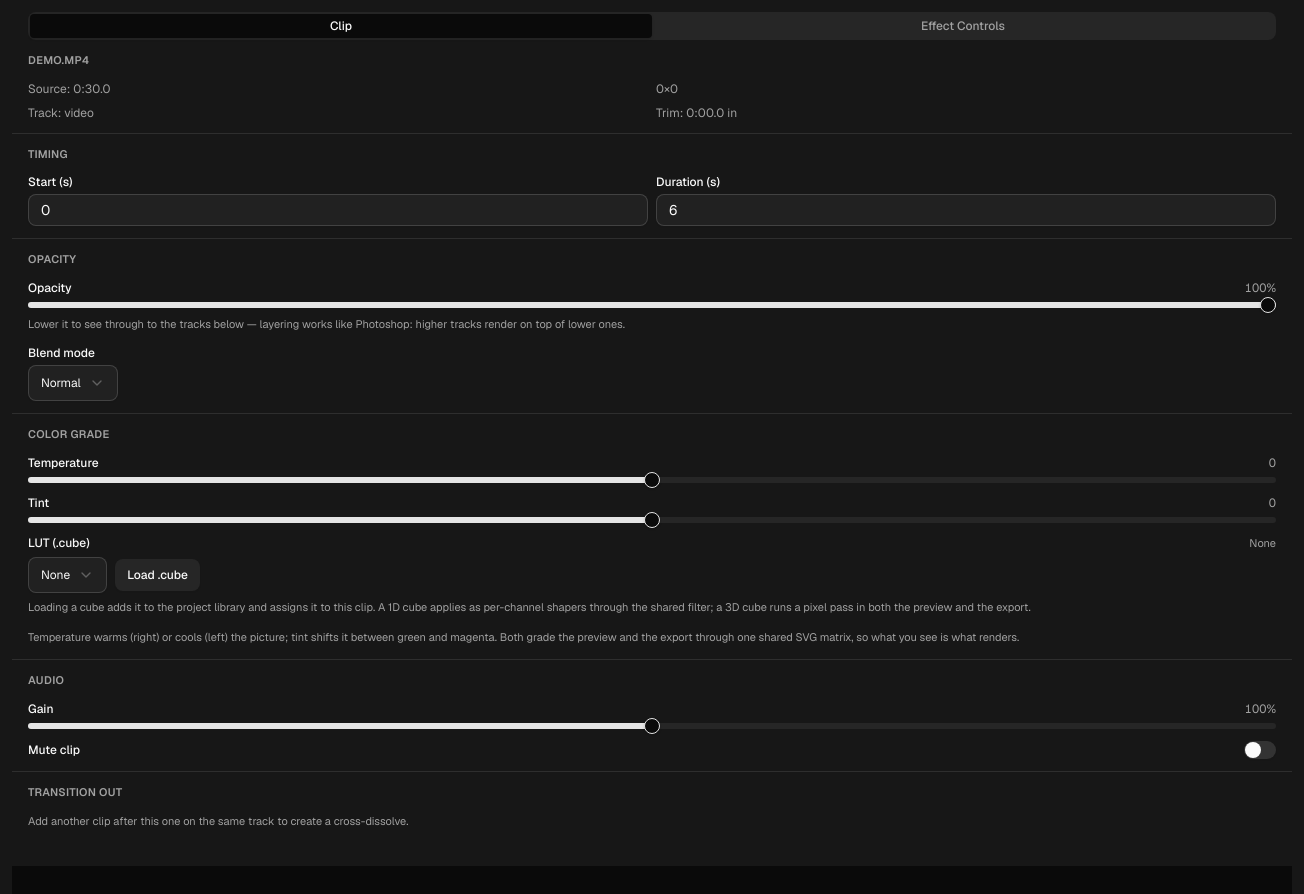
Test: InspectorPanel tabs › the time-remap row seeds a timeScale curve at the playhead
The width and height of the screenshot is (1304, 894).
What coordinates should you click on to do the following:
click the tab with test id "inspector-tab-effects"
I would click on:
 (963, 26)
Its box is x1=652 y1=14 x2=1274 y2=38.
(page scrolled)
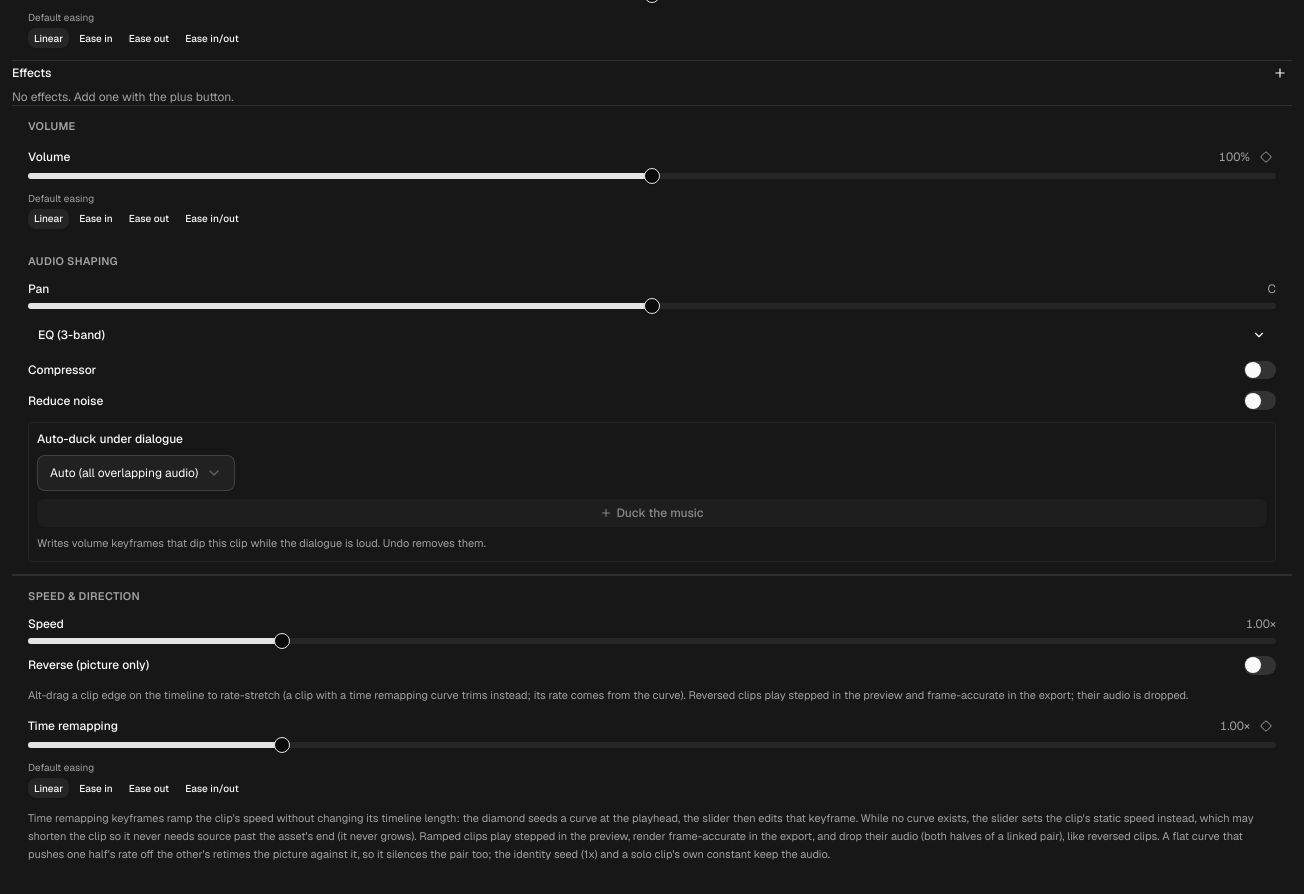
Expected: the element with test id "prop-timeScale" is shown, x1=28 y1=716 x2=1276 y2=798
The diamond pins the clip's current speed as the first ramp keyframe.
What coordinates should you click on to do the following:
click the button with test id "kf-toggle-timeScale"
I would click on:
 (1266, 726)
Its box is x1=1256 y1=716 x2=1276 y2=736.
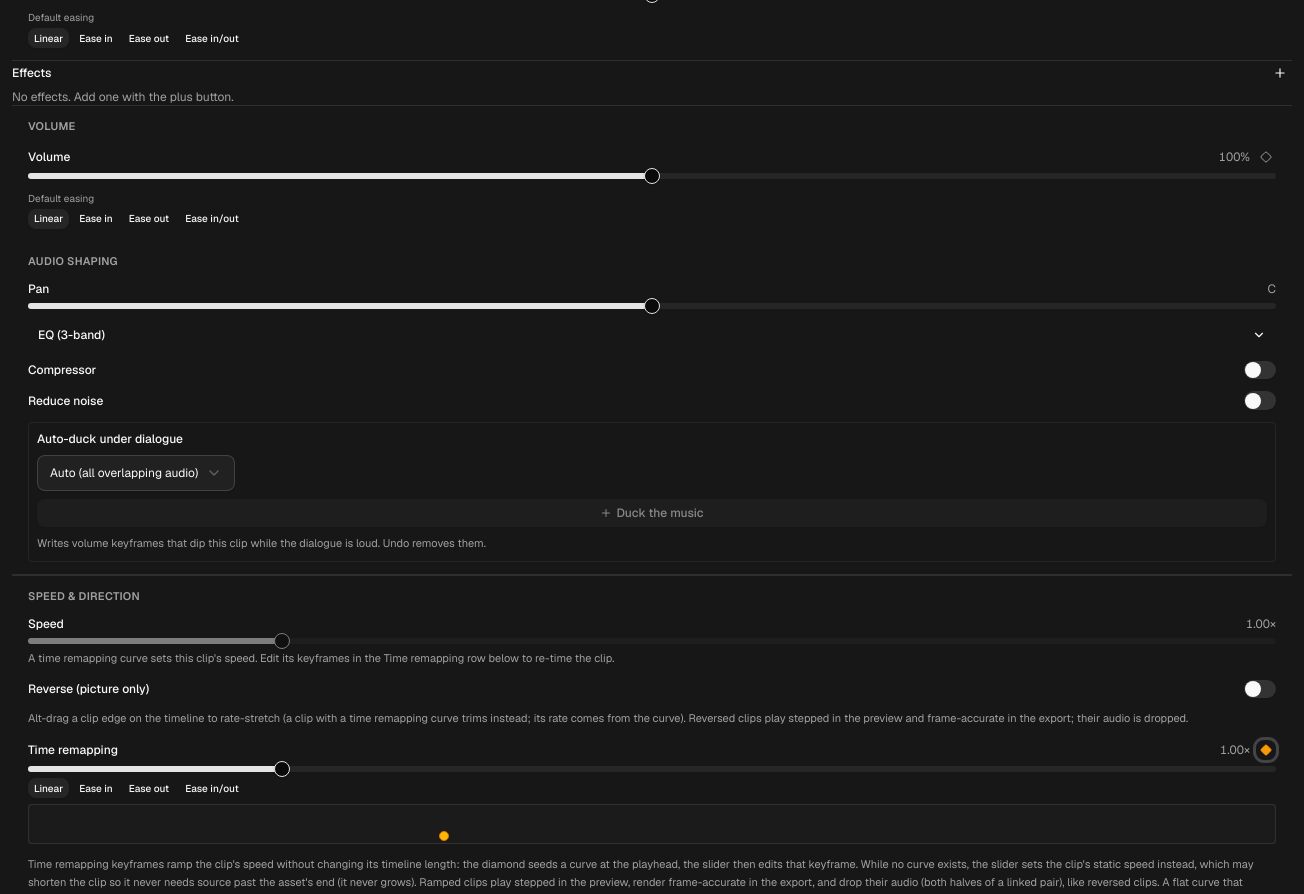
Expected: the element with test id "kf-graph-timeScale" is shown, x1=28 y1=804 x2=1276 y2=844
